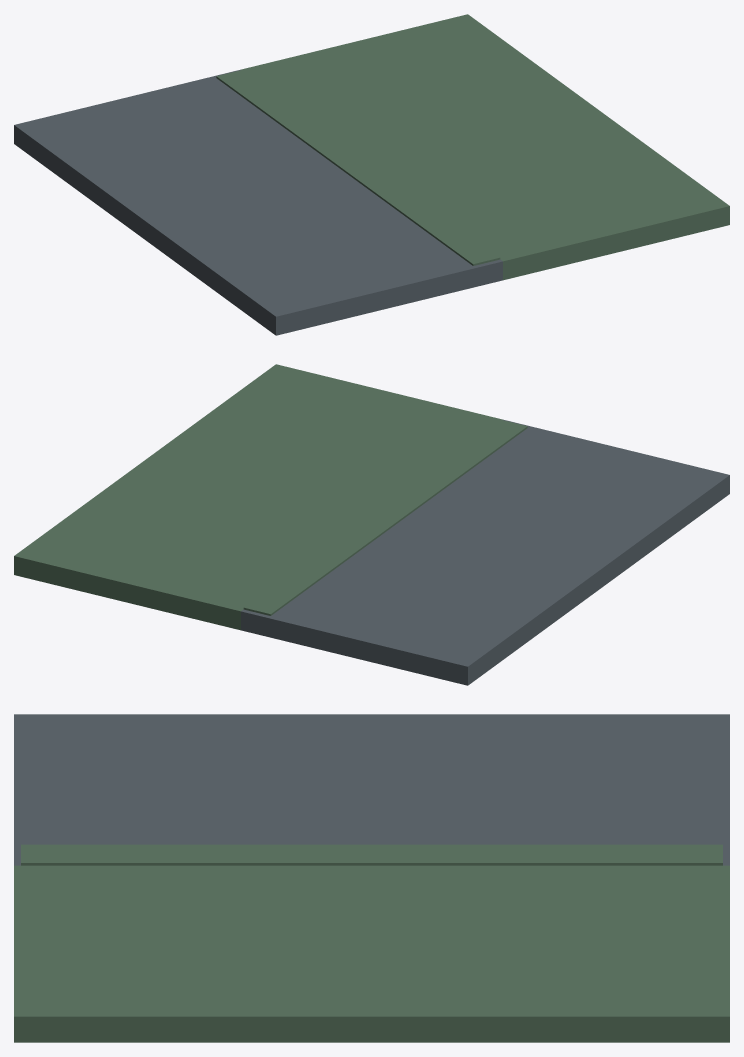
File: tile_asphalt_grass.glb
3 renders of one model, top to bottom at view 1: azimuth 30°, elevation 25°; view 2: azimuth 150°, elevation 25°; view 3: azimuth 270°, elevation 25°, orthographic. The views are drawn at different scales.
Parts seen in each view (by area): view 1: tile_asphalt_grass; view 2: tile_asphalt_grass; view 3: tile_asphalt_grass.
Boxes of the visible parts, x1=… form: tile_asphalt_grass: x1=14, y1=14, x2=729, y2=335; tile_asphalt_grass: x1=14, y1=364, x2=729, y2=685; tile_asphalt_grass: x1=14, y1=714, x2=729, y2=1042.
Size of the model in its own units: 2 by 0.088 by 2.
